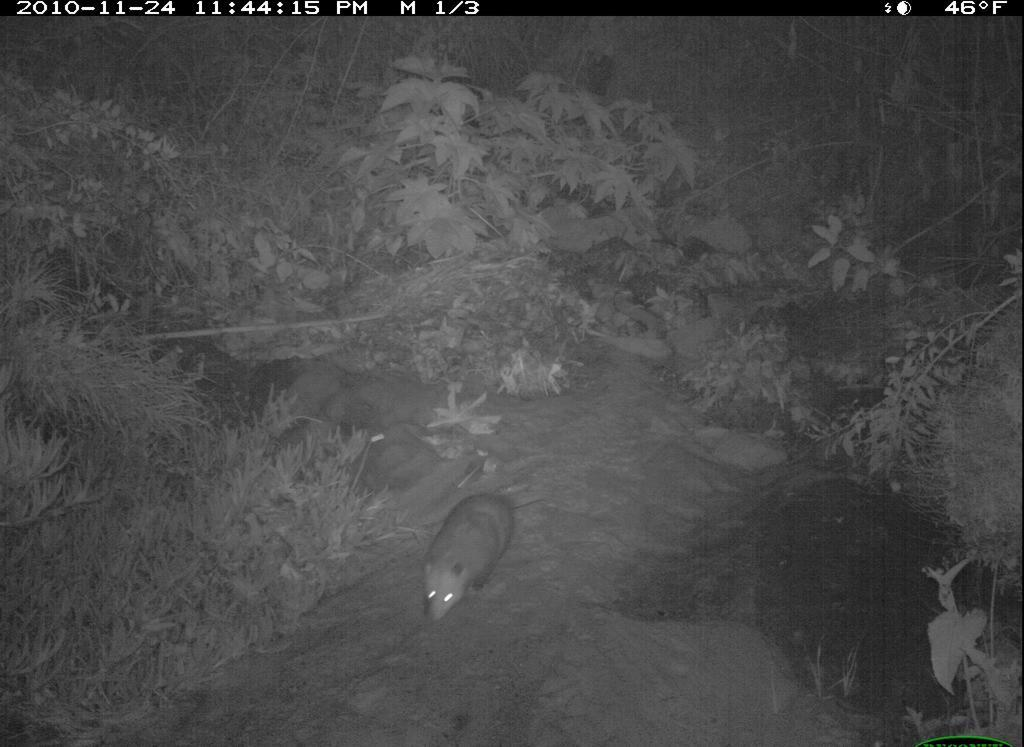opossum: (411, 481, 532, 635)
